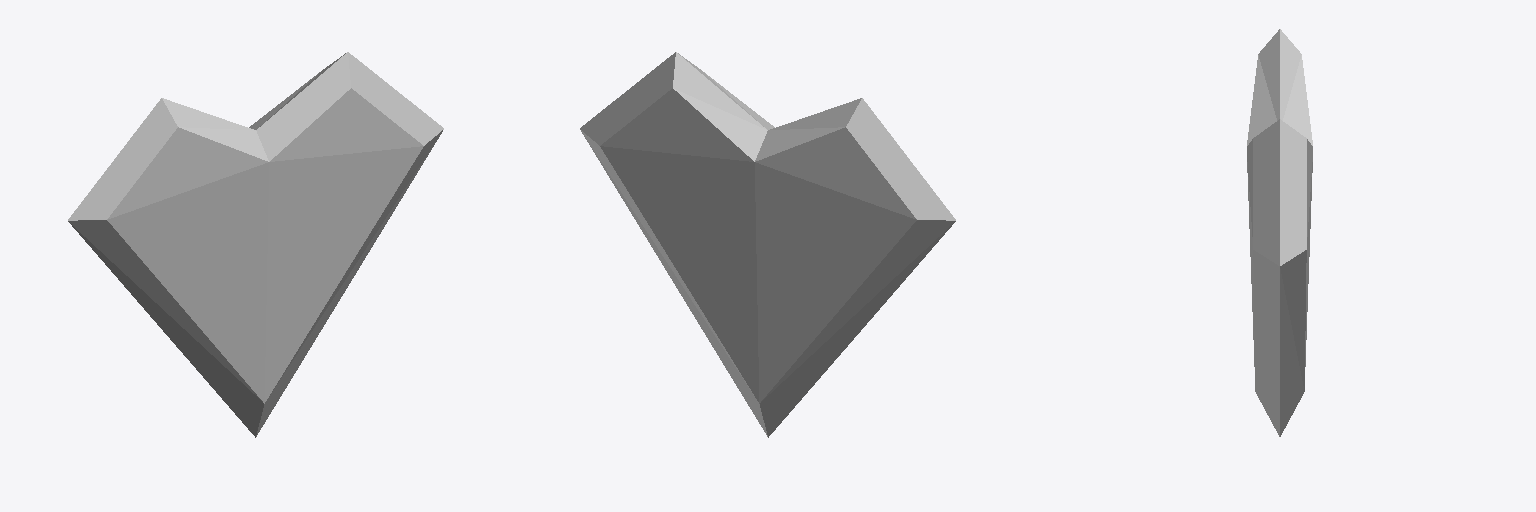
The model's file is heart.obj.
The picture shows the model from 3 angles: view 1: azimuth 30°, elevation 25°; view 2: azimuth 150°, elevation 25°; view 3: azimuth 270°, elevation 25°; orthographic projection.
Visible parts, largest first — view 1: BezierCurve.001_CUBezierCurve.002; view 2: BezierCurve.001_CUBezierCurve.002; view 3: BezierCurve.001_CUBezierCurve.002.
Boxes of the visible parts, <box> form: BezierCurve.001_CUBezierCurve.002: <box>68,52,443,437</box>; BezierCurve.001_CUBezierCurve.002: <box>580,52,955,437</box>; BezierCurve.001_CUBezierCurve.002: <box>1247,29,1312,436</box>.
Bounding box in the file's own units: 0.9657 × 0.8899 × 0.1483.